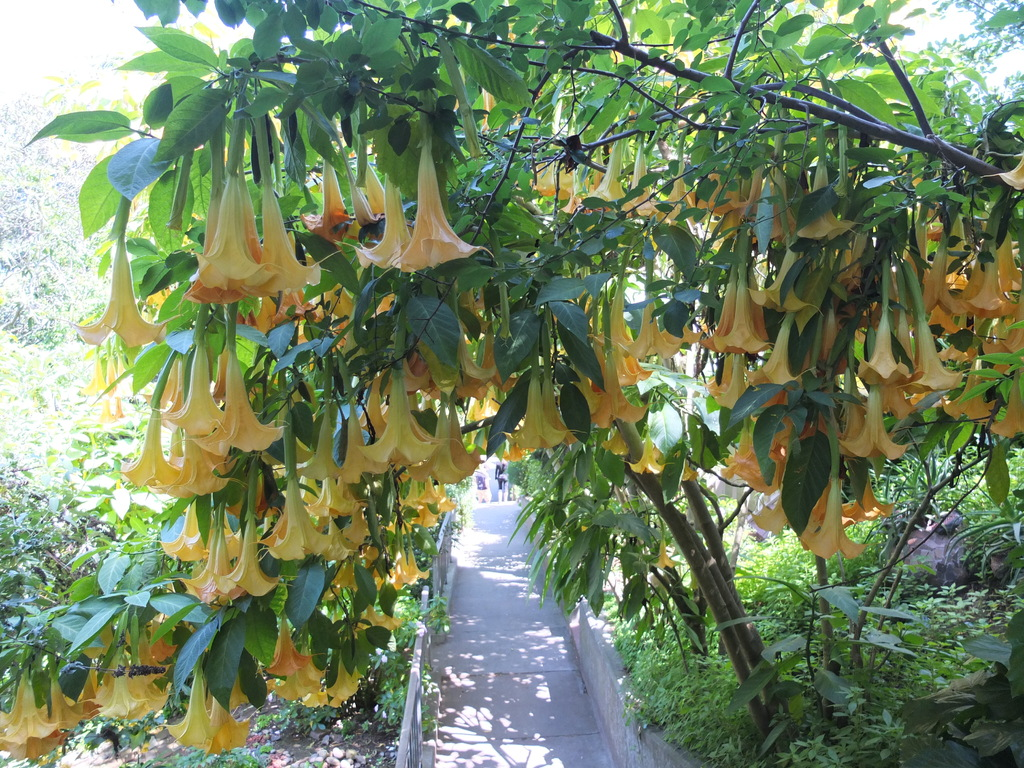Tree: (0, 0, 1023, 767), (497, 373, 1020, 762)
